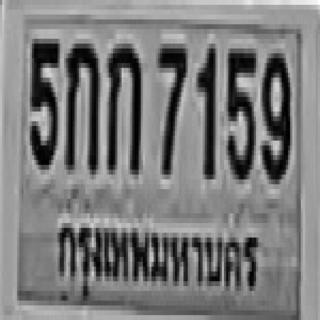A01: (104, 39, 139, 170), (64, 39, 98, 170)
N01: (196, 44, 213, 174)
N05: (28, 34, 58, 165), (226, 46, 254, 177)
N07: (156, 39, 186, 170)
N09: (260, 49, 288, 180)
P04: (53, 205, 261, 303)
